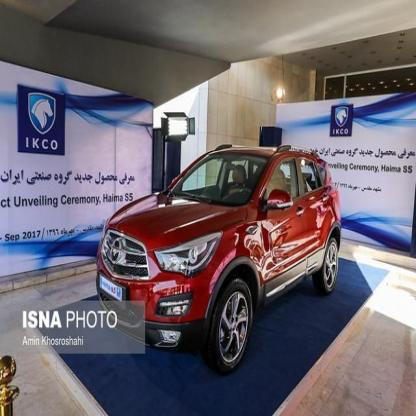Car: (95, 133, 350, 380)
